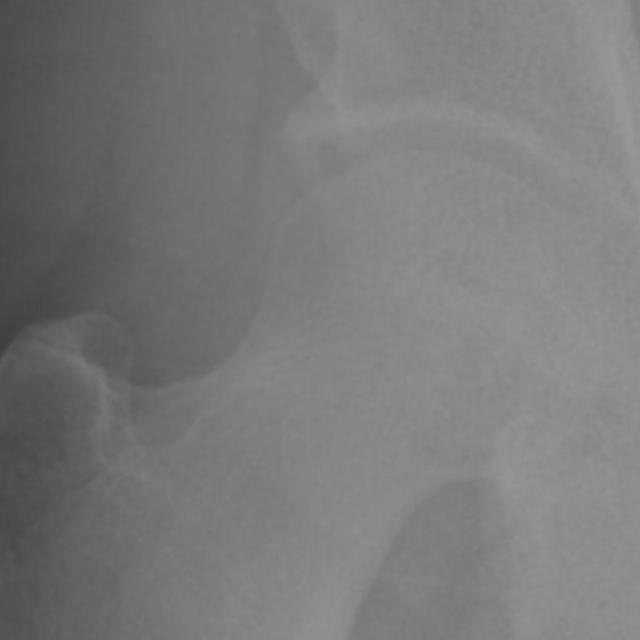Fitted_femural_head: (340, 153, 432, 340)
